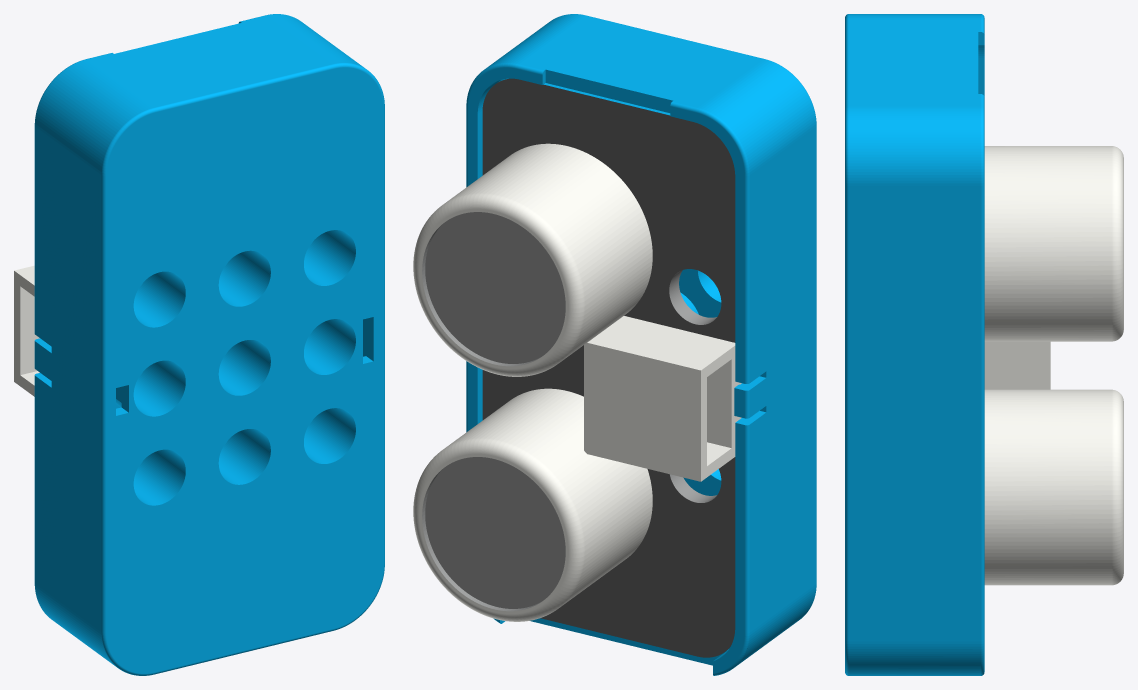
Rendered from ohstem_ultrasonic.glb.
3 views of the same model, side by side, from view 1: azimuth 30°, elevation 25°; view 2: azimuth 150°, elevation 25°; view 3: azimuth 270°, elevation 25° (orthographic).
Visible parts, largest first — view 1: Node1, Node2; view 2: Node1, Node2, Node3, Node4; view 3: Node1, Node2.
Part boxes in pixels (x1,y1,x2,y2): Node1: [34, 14, 384, 675]; Node2: [14, 265, 39, 396]; Node1: [466, 14, 816, 675]; Node2: [413, 143, 741, 621]; Node3: [482, 78, 735, 657]; Node4: [422, 212, 716, 611]; Node1: [845, 14, 984, 675]; Node2: [984, 146, 1123, 585].
Bounding box in the file's own units: 26.6 × 50.9 × 22.8.
